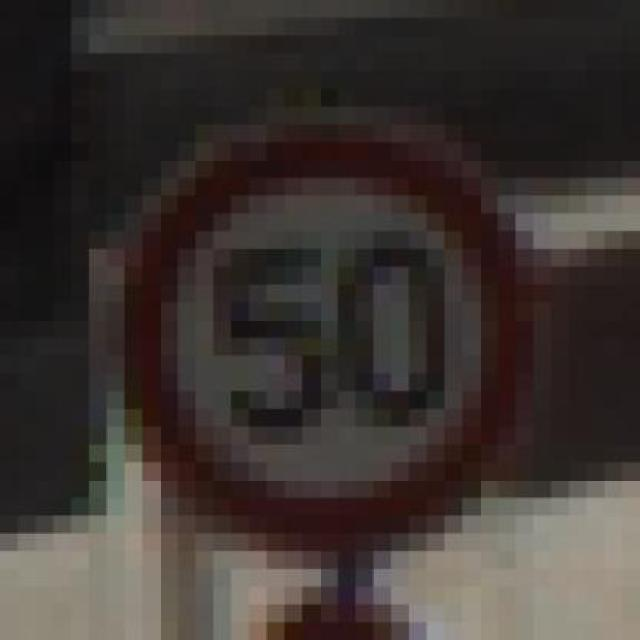50 mph speed limit: (88, 89, 622, 533)
